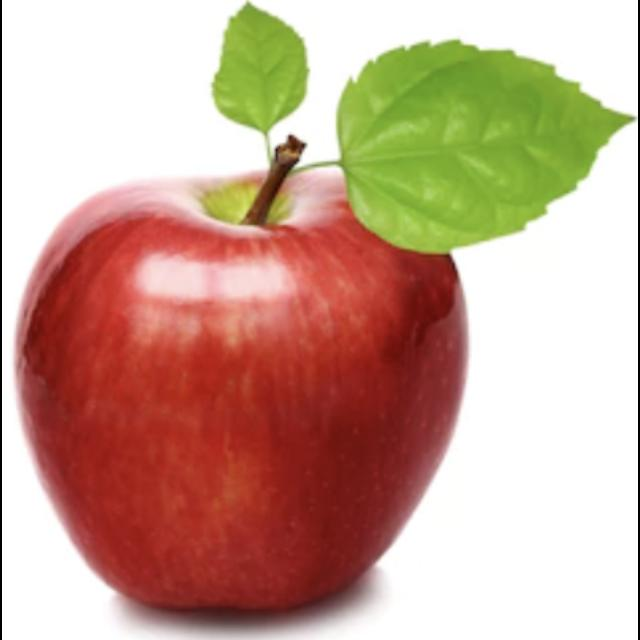Apel Segar: (12, 177, 469, 618)
